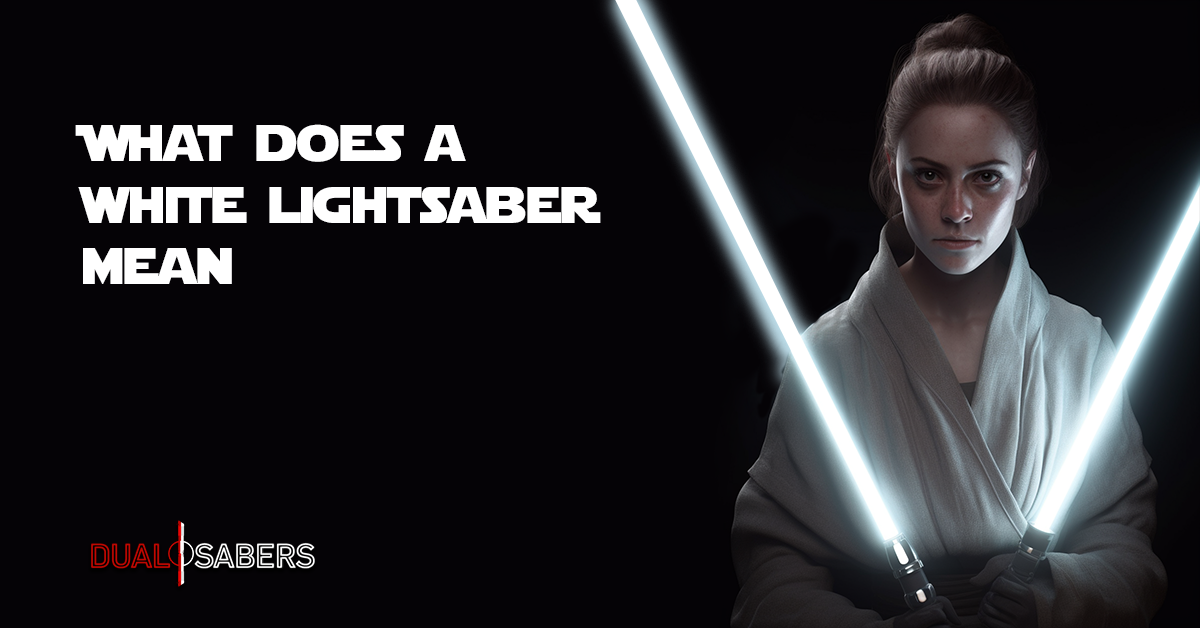lightsaber: (527, 0, 919, 627), (987, 145, 1200, 619)
